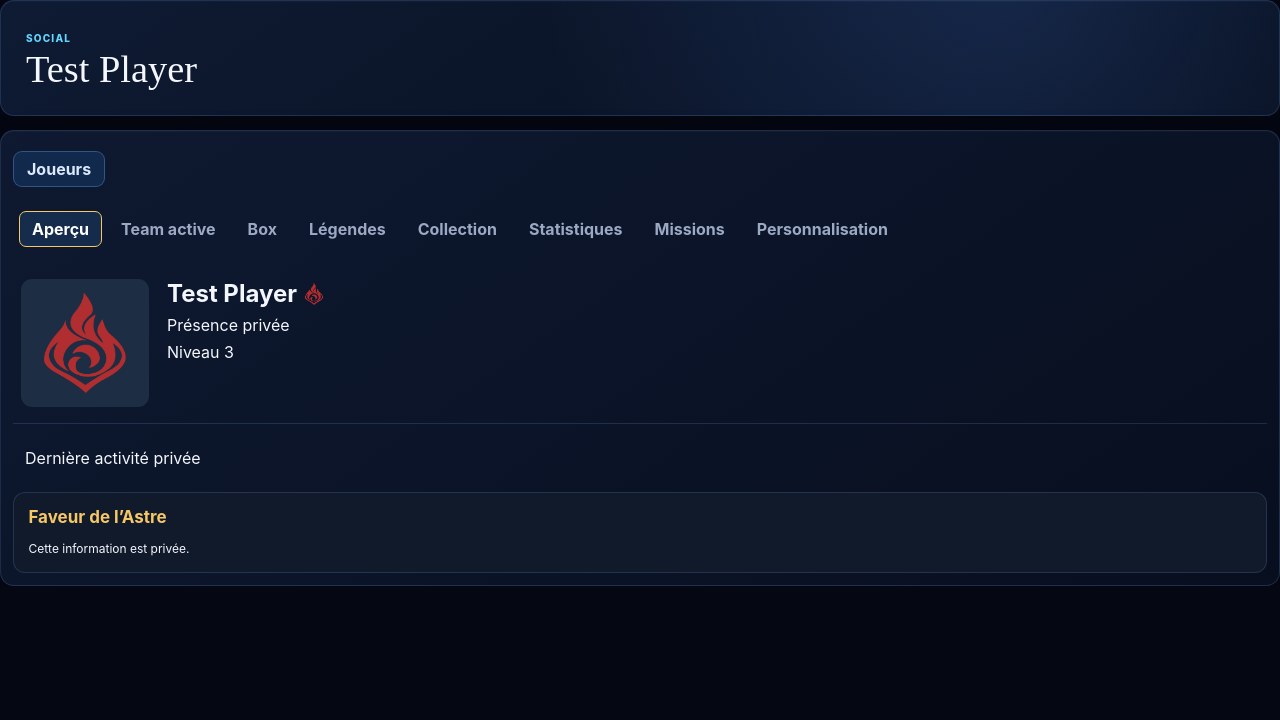
Test: Social screens › distinguishes a private section from an empty public section and exposes no mutation controls
The width and height of the screenshot is (1280, 720).
Check: the text "Aucune Team active." is not shown
Click the button "Team active". click: x=168, y=229
box: [108, 211, 229, 247]
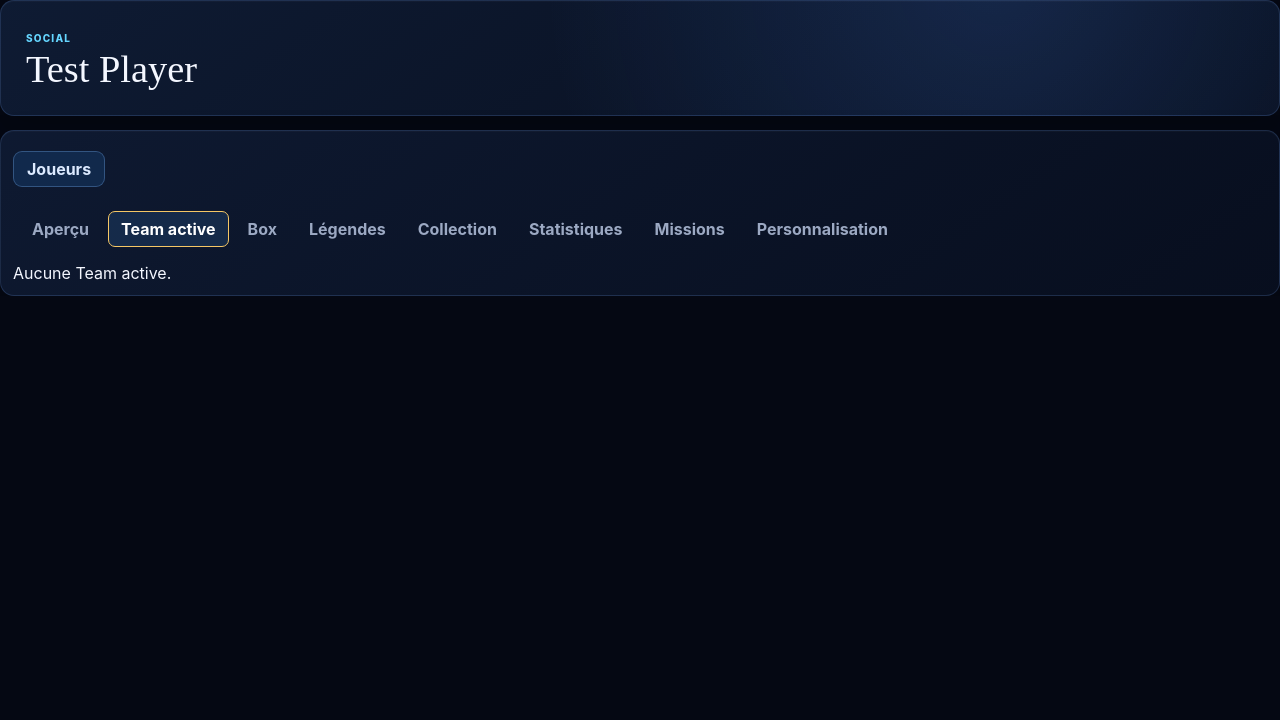
Check: the text "Aucune Team active." is shown, box [13, 263, 171, 283]
Click the button "Collection". click: x=457, y=229
box: [405, 211, 510, 247]
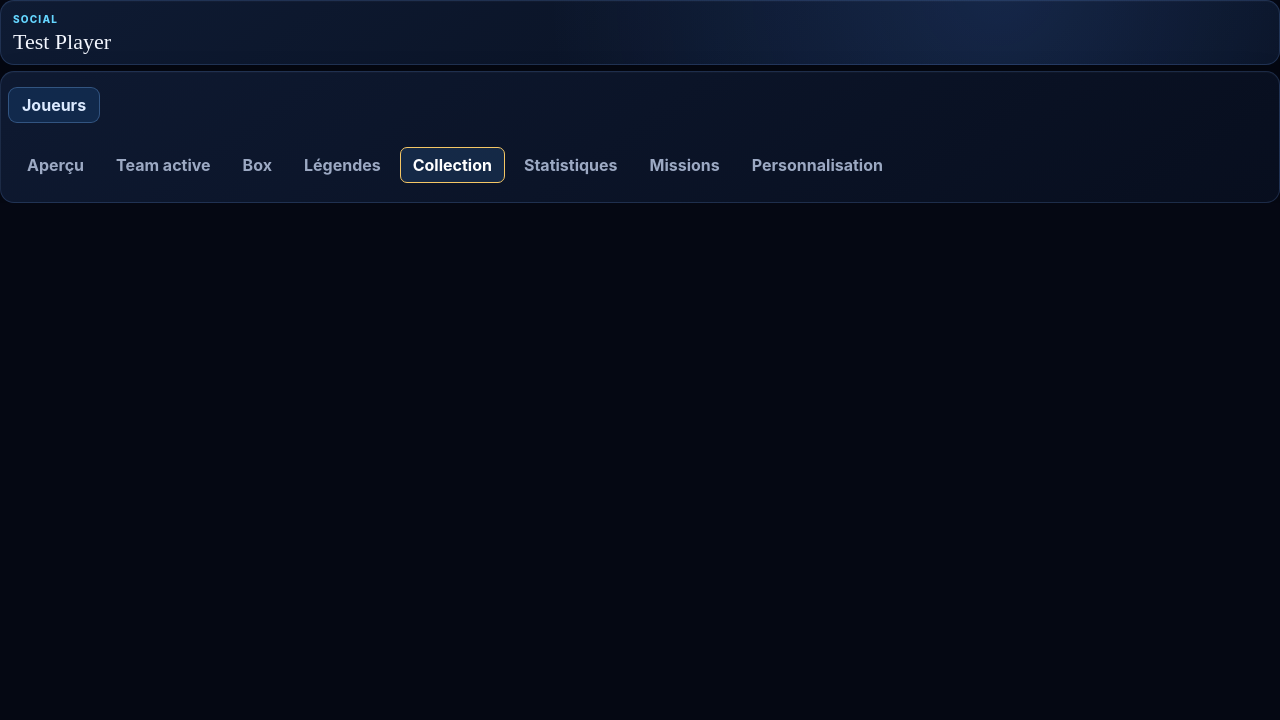
Click the button "Box". click: x=257, y=165
box: [230, 147, 285, 183]
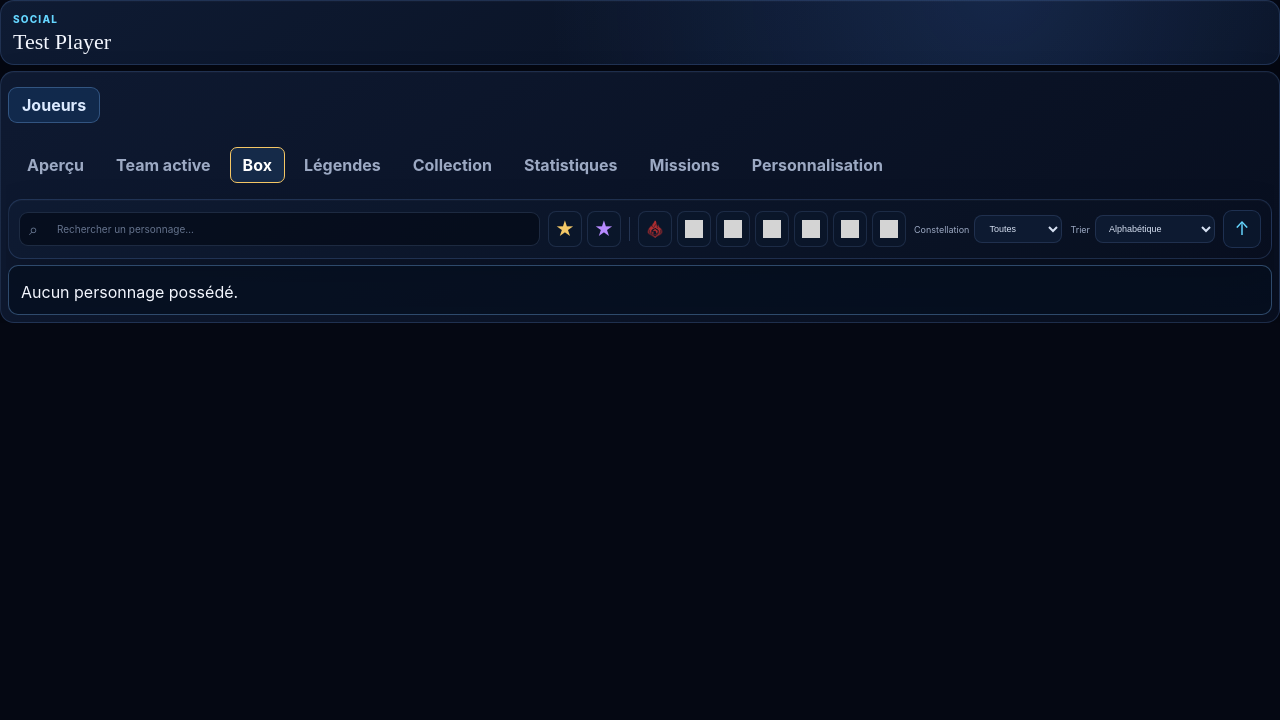
Check: the text "Aucun personnage possédé." is shown, box [21, 282, 238, 302]
Check: the text "Cette rubrique est privée." is gone
Click the button "Statistiques". click: x=571, y=165
box: [511, 147, 631, 183]
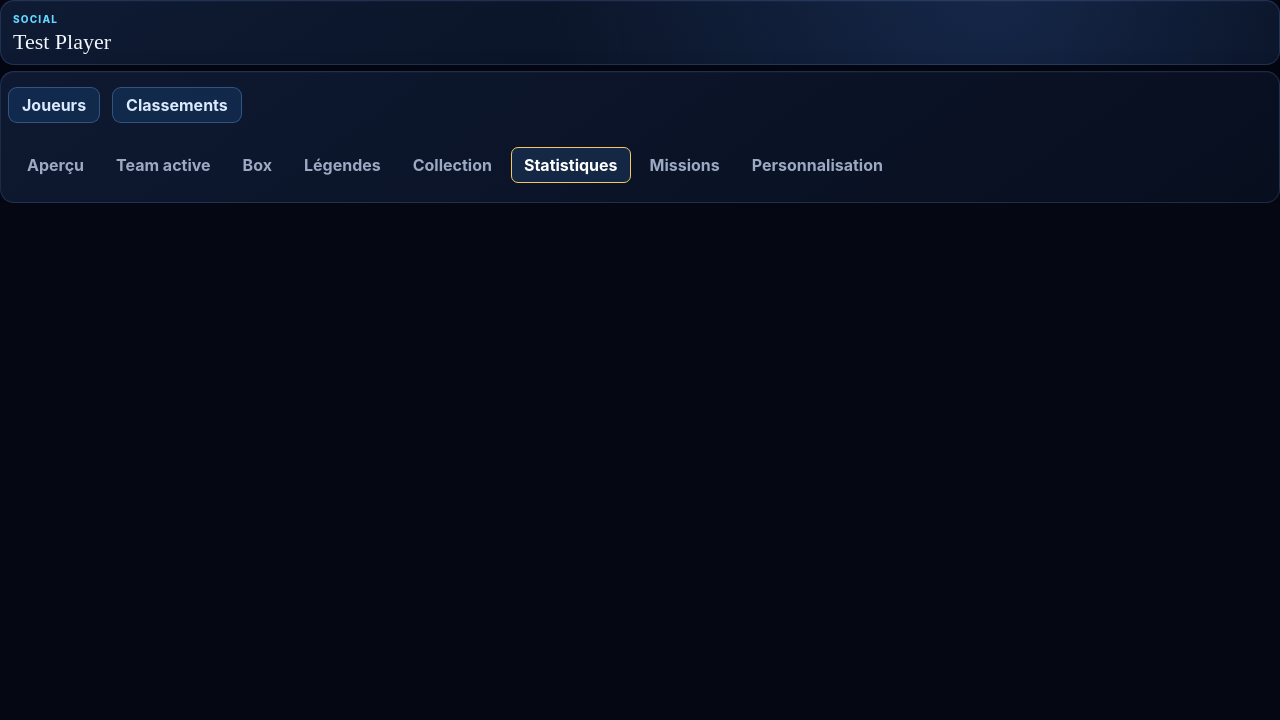
Check: the element showing "Joueurs Classements" is shown, box [8, 87, 242, 123]
